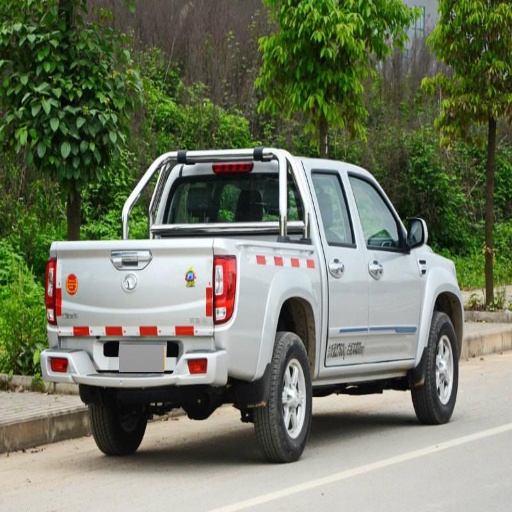back_bumper: (46, 342, 222, 385)
back_right_door: (307, 164, 368, 364)
trunk: (58, 229, 319, 381)
